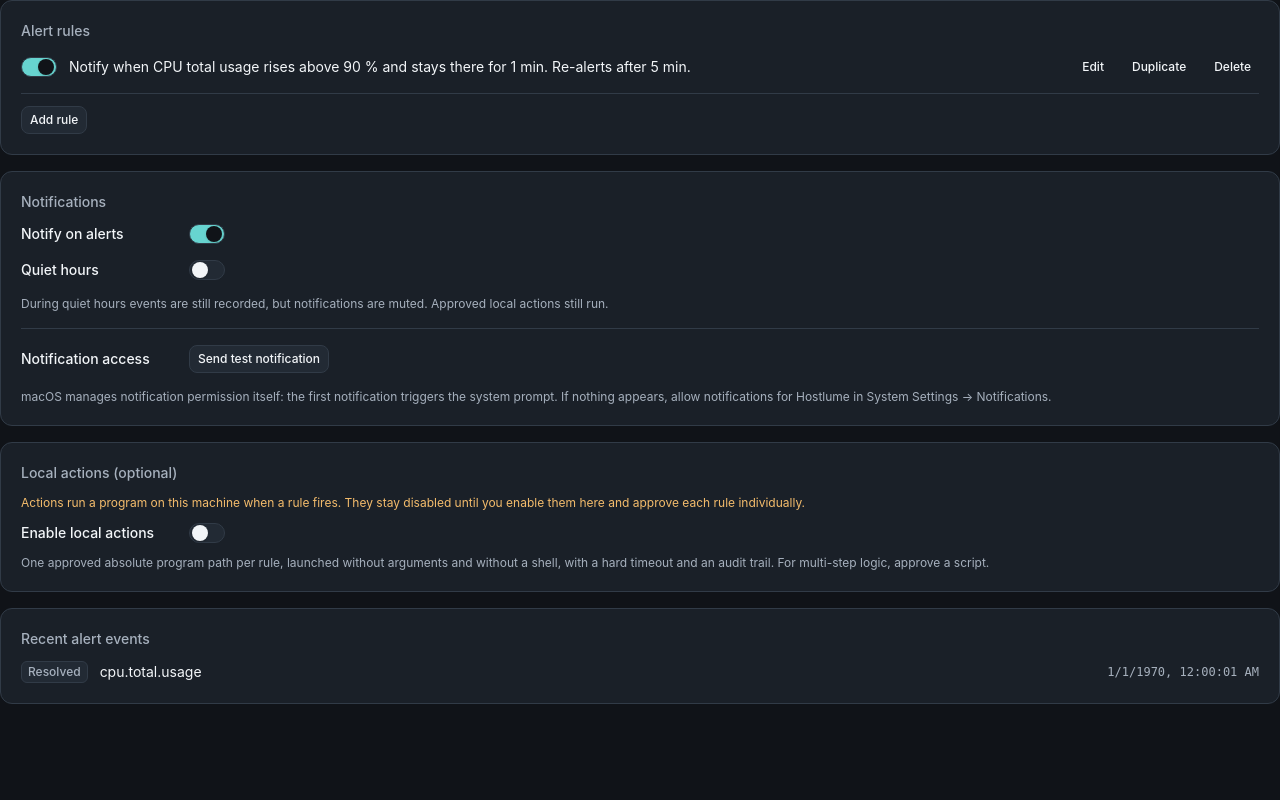
Scenario: AlertsSection › keeps the action editor locked while the master gate is off
Click the button "Add rule". click: (54, 120)
box: 21,106 -> 87,134
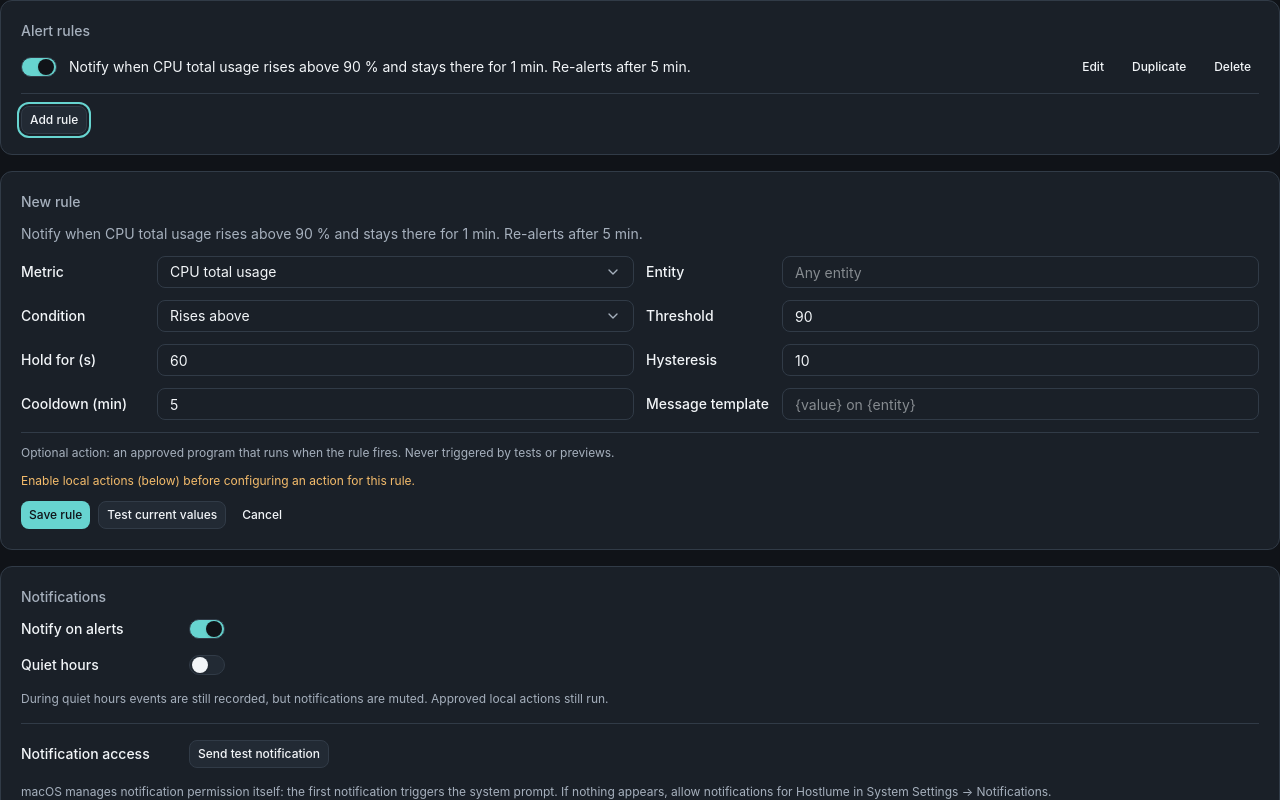
Expected: the text "Program path" is not shown
Expected: the heading "New rule" is shown, 21,192 -> 80,212
Expected: the text "Enable local actions (below) before configuring an action" is shown, 21,473 -> 415,488
